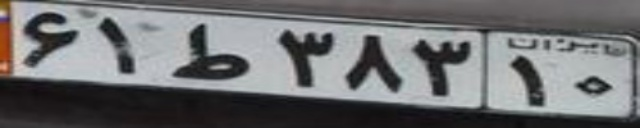0: (569, 74, 614, 98)
1: (98, 17, 139, 74), (508, 55, 546, 107)
3: (410, 37, 474, 96), (277, 27, 335, 88)
6: (19, 10, 81, 69)
8: (342, 34, 402, 94)
taa: (174, 22, 247, 81)
